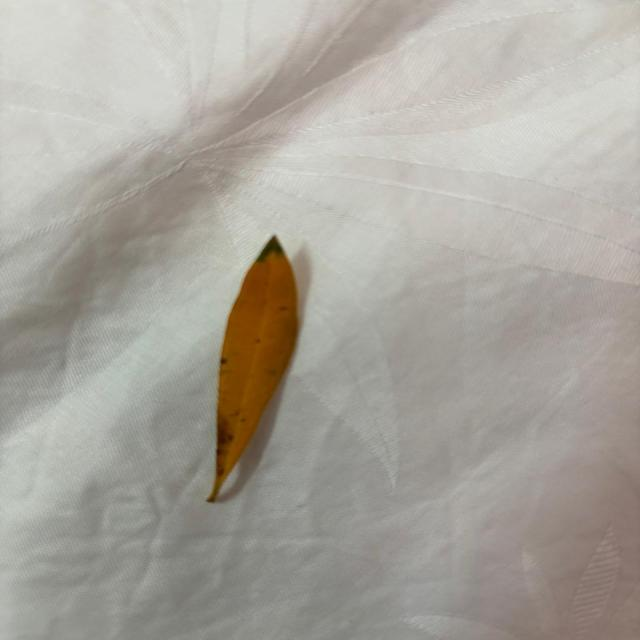Peacock Eye: (207, 237, 299, 502)
